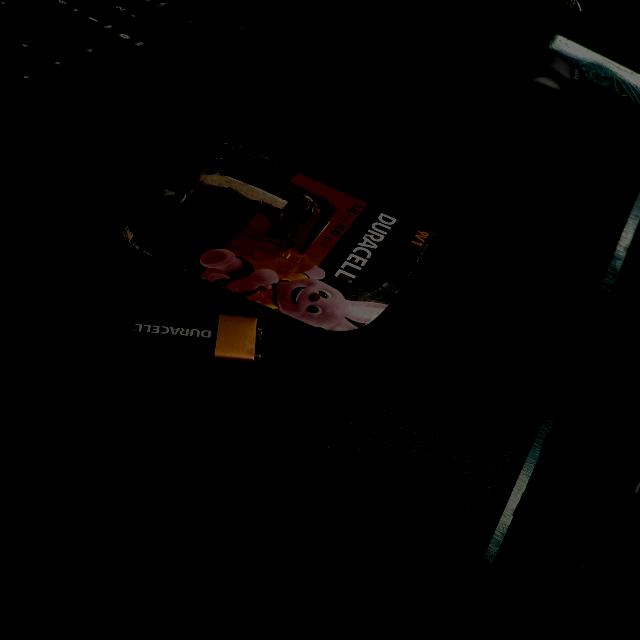9V: (142, 91, 232, 195)
